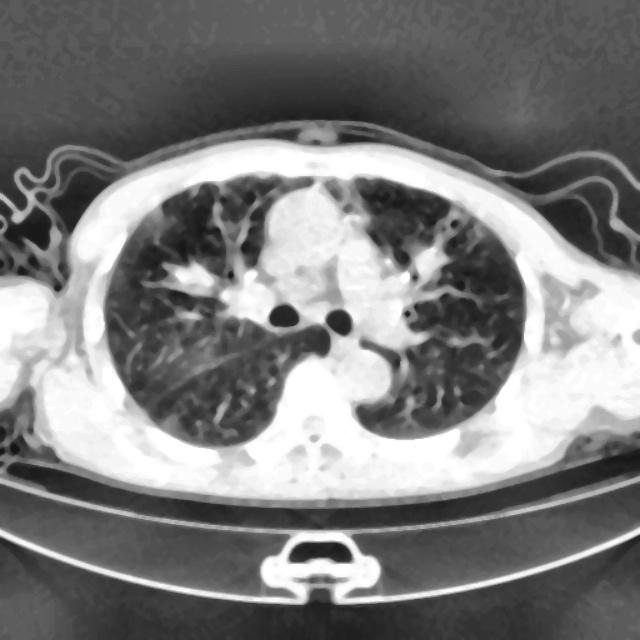covid: (0, 120, 639, 507)
